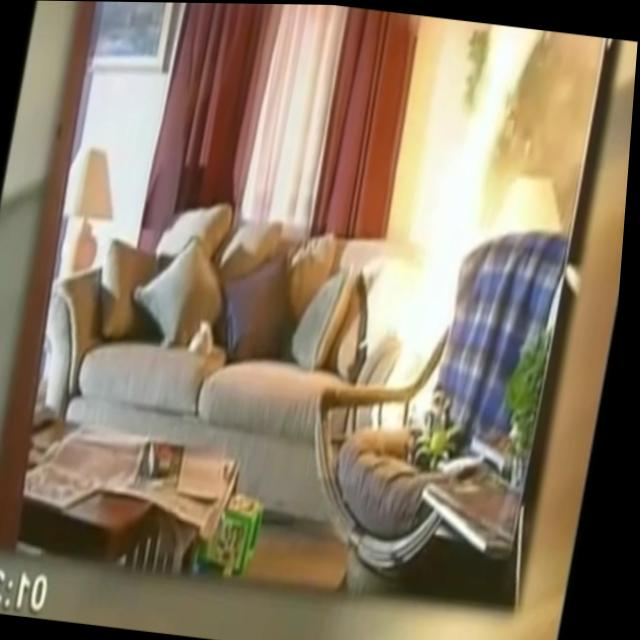fire: (354, 13, 564, 439)
